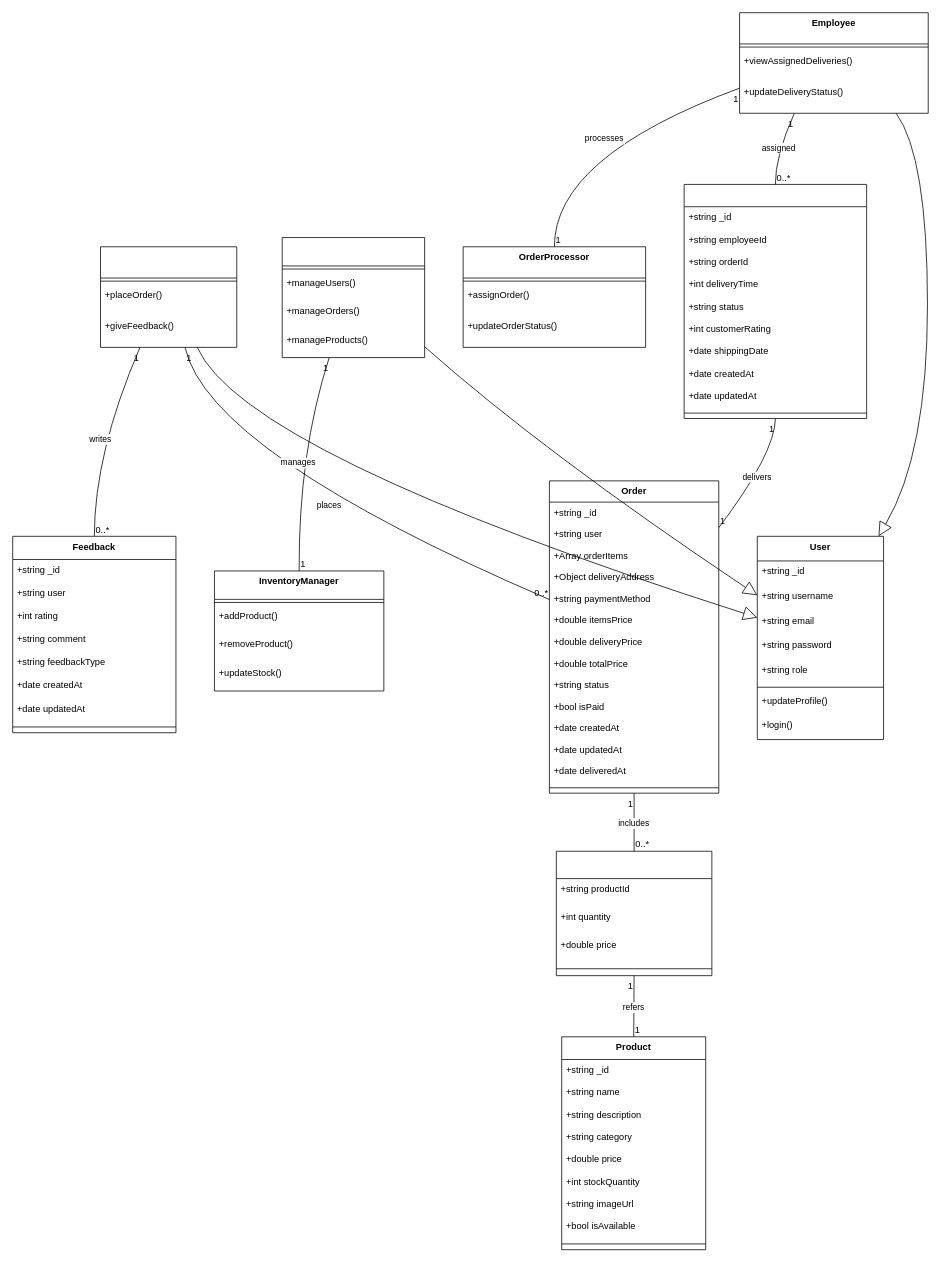
The diagram is 941 pixels wide and 1262 high, and some of its shapes have lost their labels. Each missing label, with the box of its shape:
Admin: (281, 237, 425, 358)
Customer: (100, 246, 237, 347)
EmployeeShipping: (683, 184, 867, 418)
PurchasedItem: (556, 850, 712, 976)
